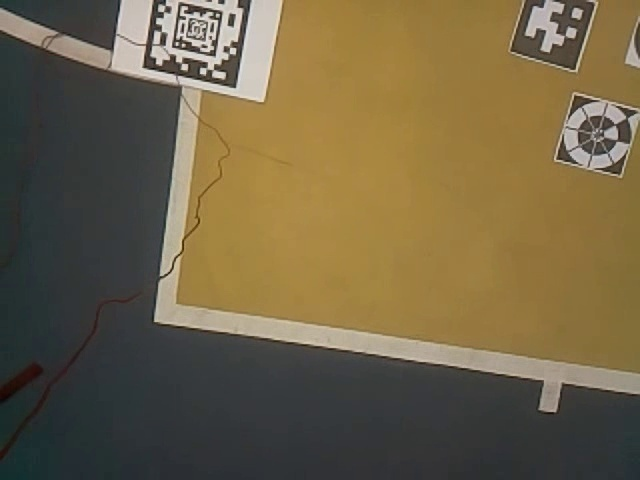landing-zone: (548, 91, 640, 179)
